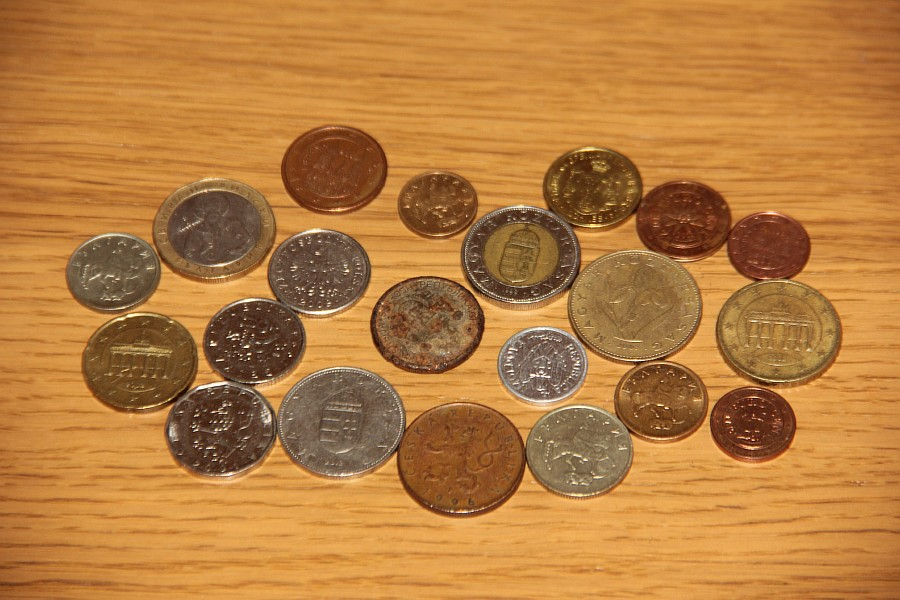coin: (567, 248, 704, 365), (396, 400, 525, 518), (277, 365, 406, 480), (715, 278, 843, 386), (150, 176, 277, 283), (458, 204, 582, 312), (80, 310, 199, 414), (369, 274, 485, 374), (164, 379, 275, 480), (524, 405, 634, 500), (280, 123, 389, 215), (266, 227, 371, 317), (202, 297, 306, 386), (541, 145, 645, 233), (613, 358, 710, 443), (635, 178, 731, 262), (64, 231, 161, 313), (496, 325, 588, 405), (709, 385, 797, 463), (728, 209, 811, 281), (395, 170, 479, 239)
